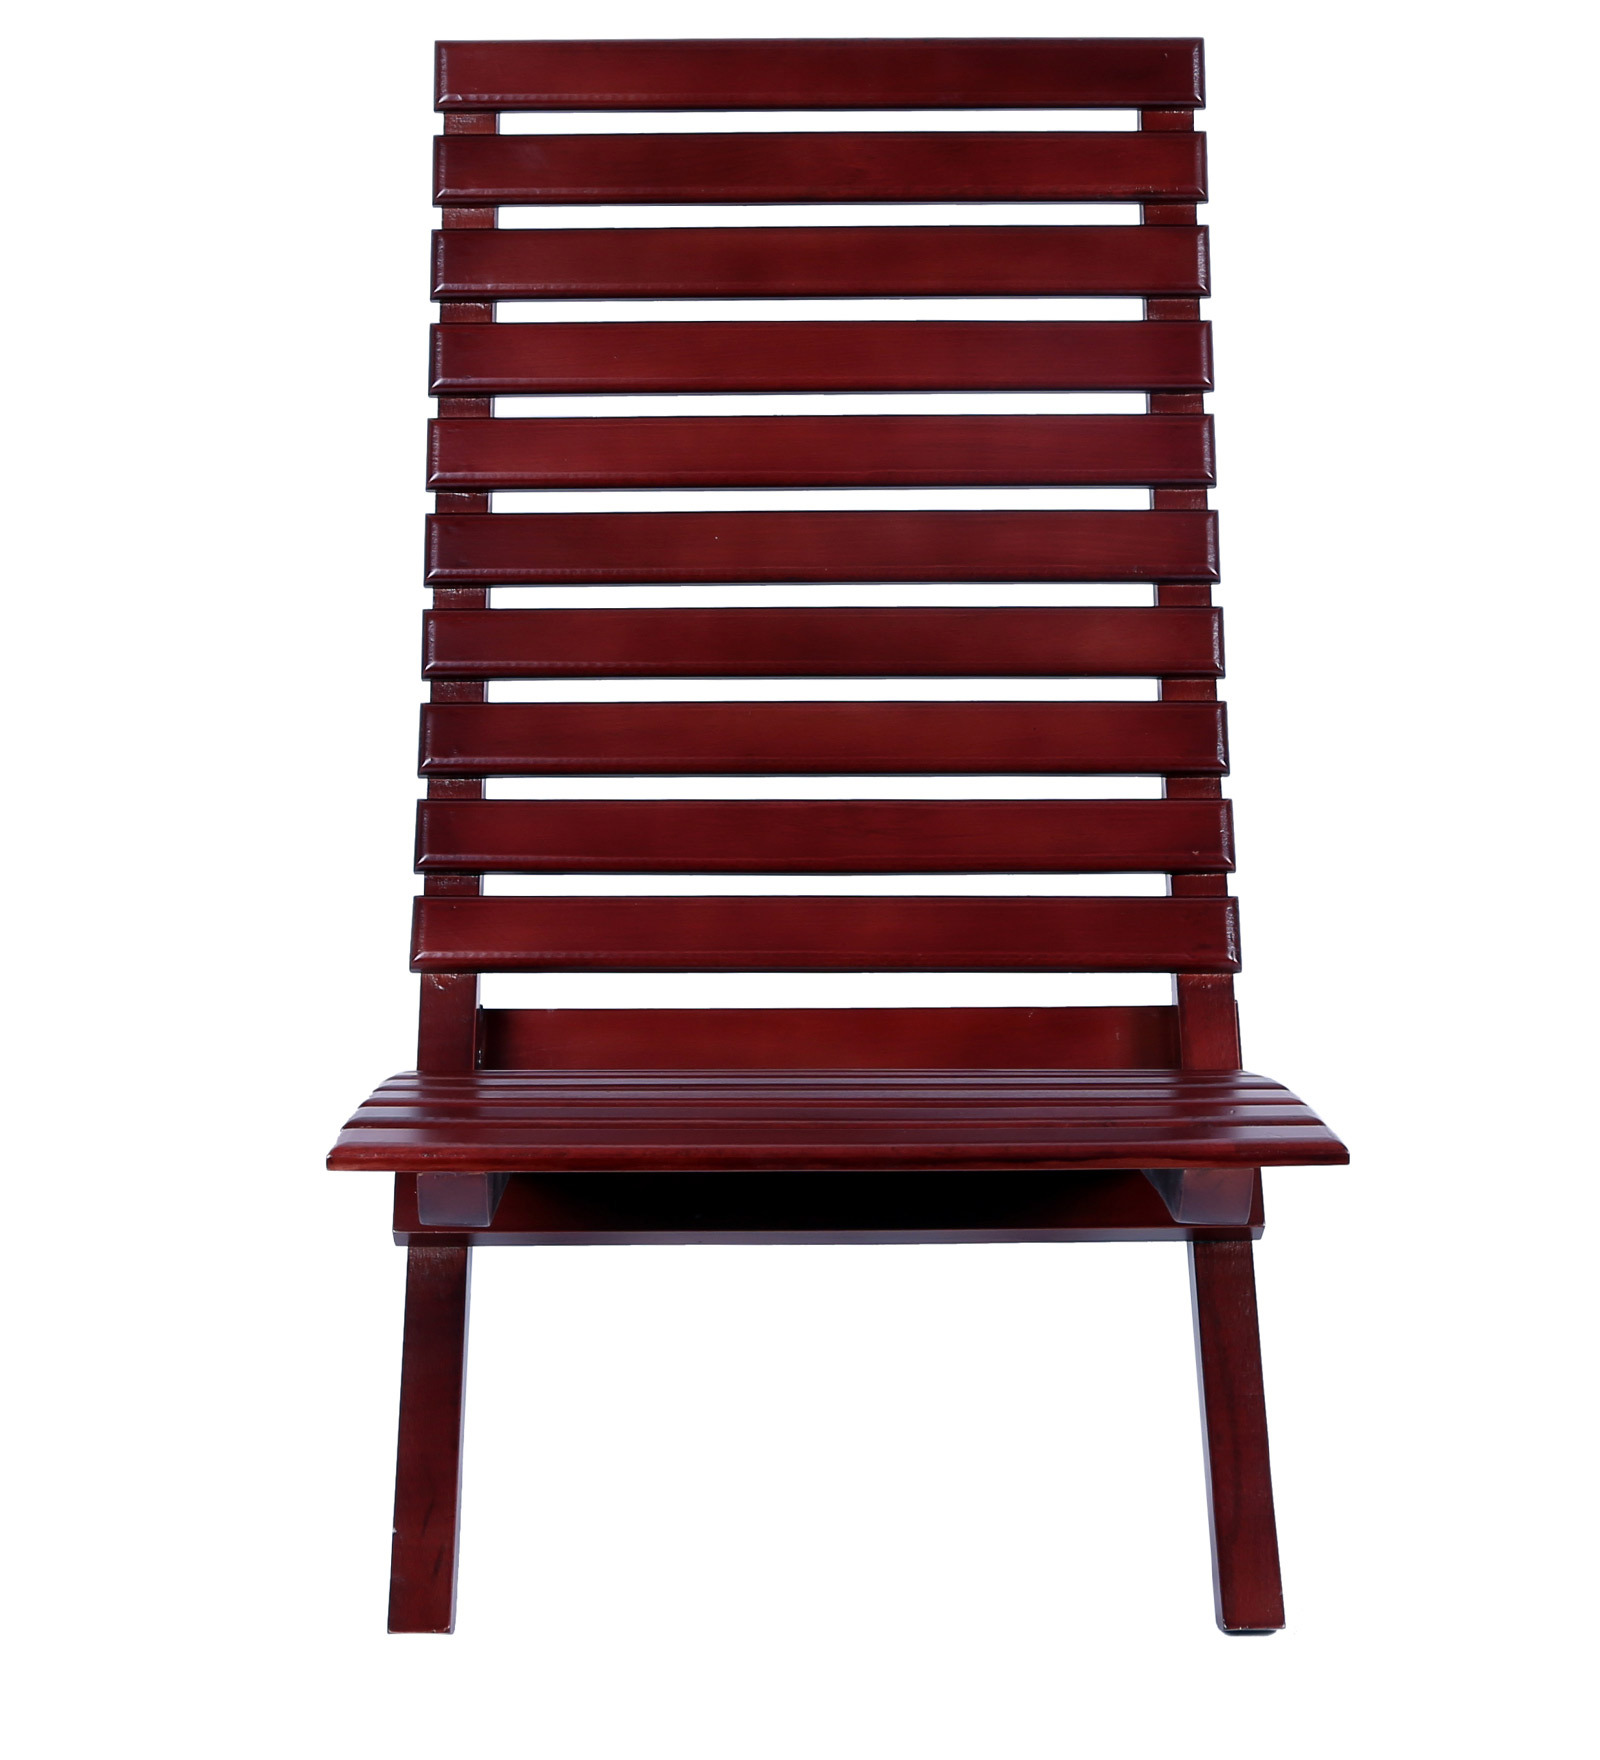Foldable Chair in Brown Colour by ClasiCraft: (336, 28, 1333, 1674)
